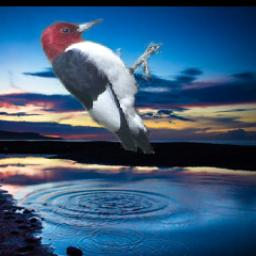Woodpecker: (39, 19, 165, 155)
